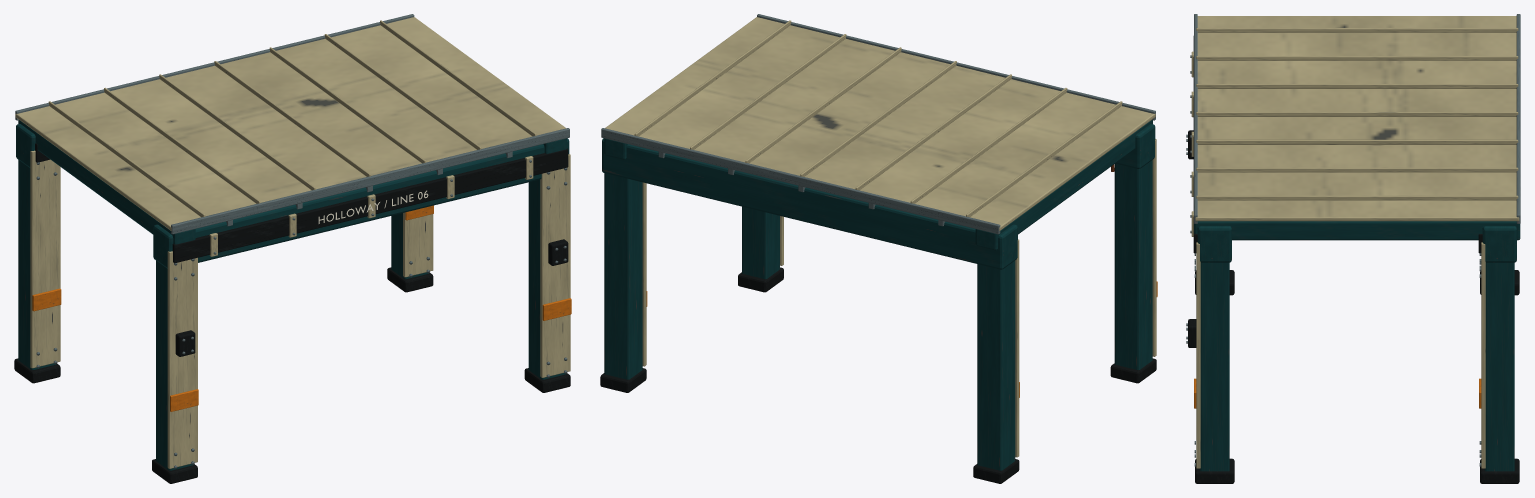
Rendered from marrow-receiving-portal.glb.
3 views of the same model, side by side, from view 1: azimuth 30°, elevation 25°; view 2: azimuth 150°, elevation 25°; view 3: azimuth 270°, elevation 25° (orthographic). The views are drawn at different scales.
Parts seen in each view (by area): view 1: marrow-receiving-portal | Aged ivory enamel, marrow-receiving-portal | Petrol enamel, marrow-receiving-portal | Cast graphite iron, marrow-receiving-portal | Machined steel, marrow-receiving-portal | Warning ochre; view 2: marrow-receiving-portal | Aged ivory enamel, marrow-receiving-portal | Petrol enamel, marrow-receiving-portal | Machined steel, marrow-receiving-portal | Cast graphite iron; view 3: marrow-receiving-portal | Aged ivory enamel, marrow-receiving-portal | Petrol enamel, marrow-receiving-portal | Cast graphite iron, marrow-receiving-portal | Machined steel.
Boxes of the visible parts, <box> form: marrow-receiving-portal | Aged ivory enamel: <box>15,17,570,468</box>; marrow-receiving-portal | Petrol enamel: <box>16,120,569,470</box>; marrow-receiving-portal | Cast graphite iron: <box>14,143,570,483</box>; marrow-receiving-portal | Machined steel: <box>15,14,569,468</box>; marrow-receiving-portal | Warning ochre: <box>32,205,571,411</box>; marrow-receiving-portal | Aged ivory enamel: <box>605,17,1156,457</box>; marrow-receiving-portal | Petrol enamel: <box>602,120,1155,470</box>; marrow-receiving-portal | Machined steel: <box>601,14,1155,234</box>; marrow-receiving-portal | Cast graphite iron: <box>600,267,1156,483</box>; marrow-receiving-portal | Aged ivory enamel: <box>1191,16,1519,468</box>; marrow-receiving-portal | Petrol enamel: <box>1194,221,1520,471</box>; marrow-receiving-portal | Cast graphite iron: <box>1188,36,1519,483</box>; marrow-receiving-portal | Machined steel: <box>1186,14,1520,466</box>.
Size of the model in its own units: 5.6 by 3.48 by 3.89.
7 materials, 6 textured.
